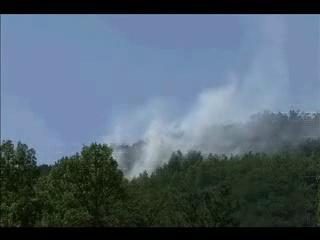smoke: (184, 64, 318, 159), (109, 93, 185, 183)
